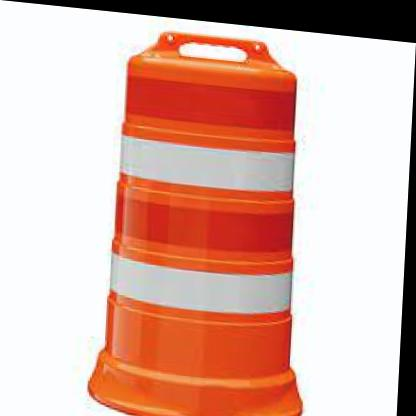obstacle: (105, 28, 310, 399)
